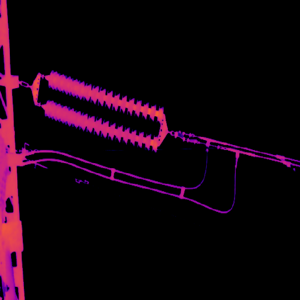insulator: (42, 65, 164, 152)
